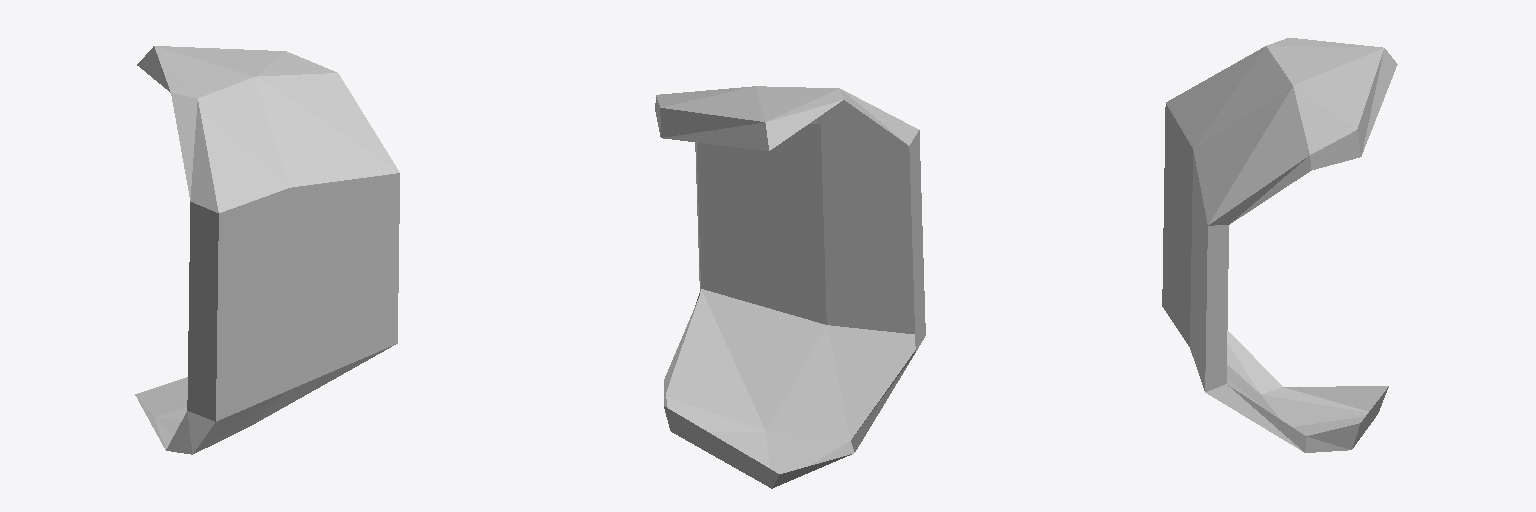
Rendered from PhalaxEnd_1.obj.
3 renders of one model, left to right at view 1: azimuth 30°, elevation 25°; view 2: azimuth 150°, elevation 25°; view 3: azimuth 270°, elevation 25°, orthographic.
Bounding box in the file's own units: 0.0097 × 0.0158 × 0.0092.